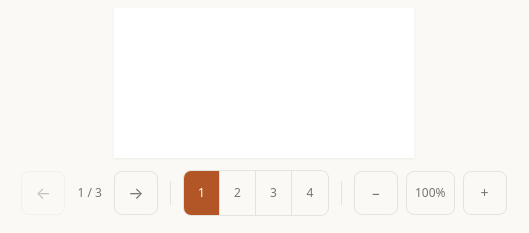
showing several pages at a time › pages back off a last spread the clamp pulled onto its own step
The image size is (529, 233).
Click the button named "2 pages at a time": [238, 193] box [220,171,256,215]
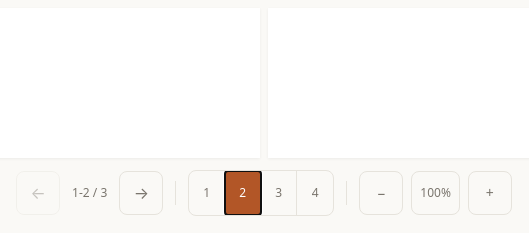
Expected: the text "1-2 / 3" is shown, [72,184,107,201]
Click the button named "Next page": [141, 193] box [119,171,163,215]
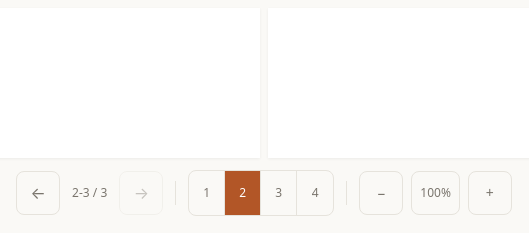
Expected: the text "2-3 / 3" is shown, [72,184,107,201]
Expected: the button named "Previous page" is enabled
Click the button named "Previous page": [38, 193] box [16,171,60,215]
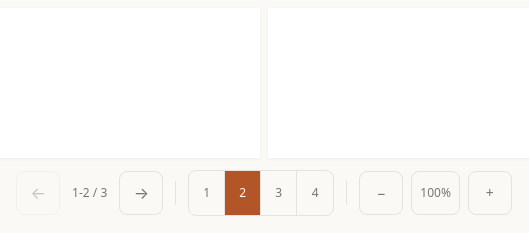
Expected: the text "1-2 / 3" is shown, [72,184,107,201]
